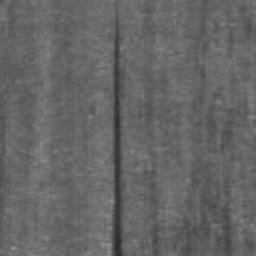Scratches: (113, 7, 123, 256)
